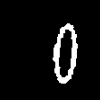chain: (53, 24, 77, 82)
